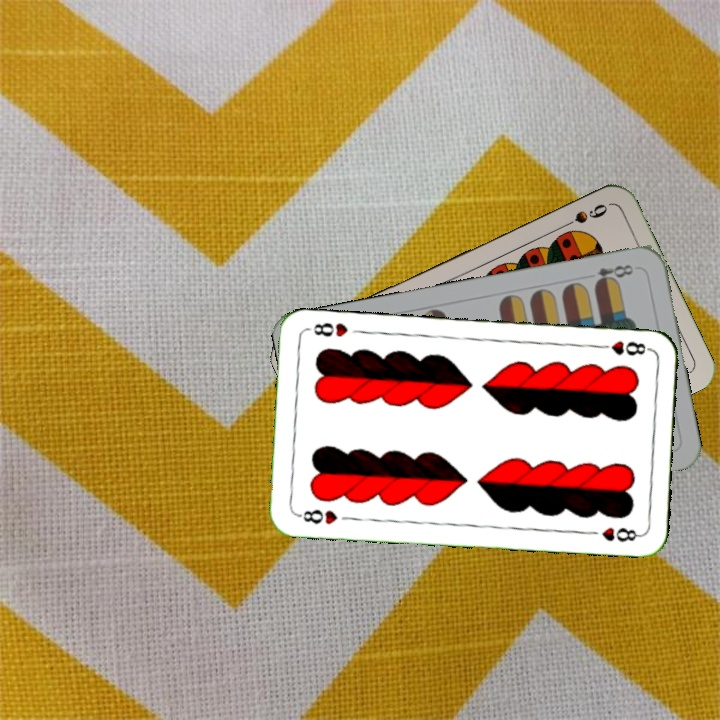E8: (590, 260, 636, 289)
H8: (593, 337, 653, 358), (293, 505, 340, 527)
S9: (555, 199, 611, 232)
